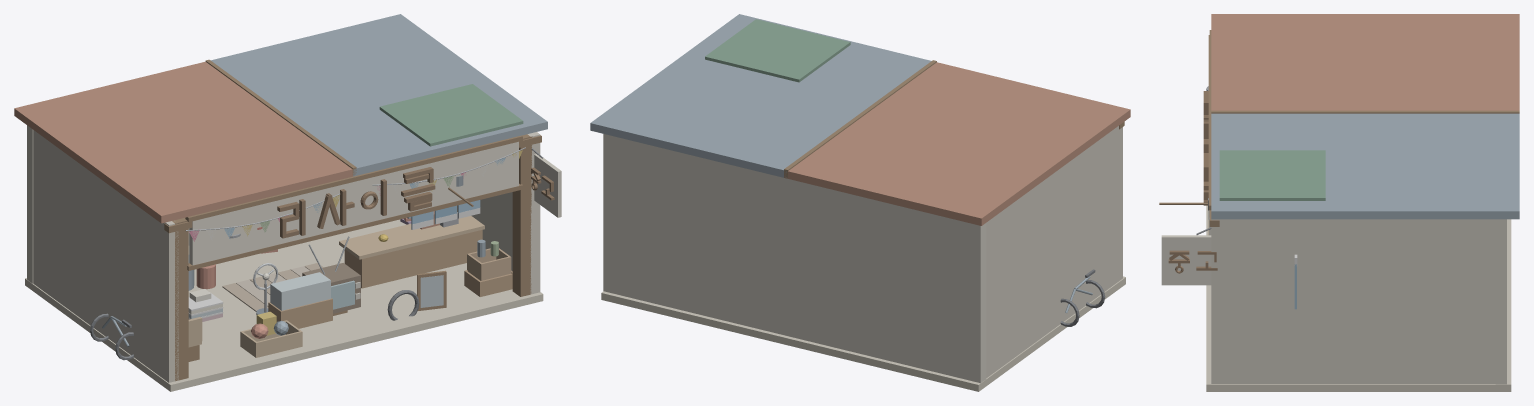
File: recycle.glb
The picture shows the model from 3 angles, left to right: view 1: azimuth 30°, elevation 25°; view 2: azimuth 150°, elevation 25°; view 3: azimuth 270°, elevation 25°; orthographic projection. The views are drawn at different scales.
Parts seen in each view (by area): view 1: part_26, part_16, part_45, part_44, part_50, part_15, part_25, part_07, part_35, part_49, part_09, part_38 (+12 smaller); view 2: part_49, part_26, part_16, part_45, part_07, part_44, part_15; view 3: part_49, part_26, part_16, part_07, part_44, part_50, part_15, part_09.
Part boxes in pixels (x1,y1,x2,y2): part_26: (14, 61, 439, 229); part_16: (102, 14, 547, 346); part_45: (33, 130, 178, 382); part_44: (25, 219, 543, 391); part_50: (189, 141, 561, 265); part_15: (164, 59, 541, 381); part_25: (268, 230, 512, 328); part_07: (379, 84, 523, 146); part_35: (188, 216, 484, 357); part_49: (27, 125, 540, 294); part_09: (277, 167, 554, 238); part_38: (270, 272, 330, 310); part_49: (603, 134, 986, 383); part_26: (785, 62, 1130, 225); part_16: (590, 14, 1092, 313); part_45: (986, 126, 1122, 377); part_07: (705, 19, 850, 82); part_44: (601, 276, 1125, 391); part_15: (784, 60, 1124, 178); part_49: (1211, 219, 1506, 384); part_26: (1211, 14, 1519, 110); part_16: (1211, 113, 1519, 219); part_07: (1219, 150, 1325, 200); part_44: (1206, 205, 1511, 391); part_50: (1161, 210, 1211, 285); part_15: (1159, 30, 1519, 234); part_09: (1168, 91, 1217, 273).
Size of the model in its own units: 14.48 by 6.23 by 10.87.
